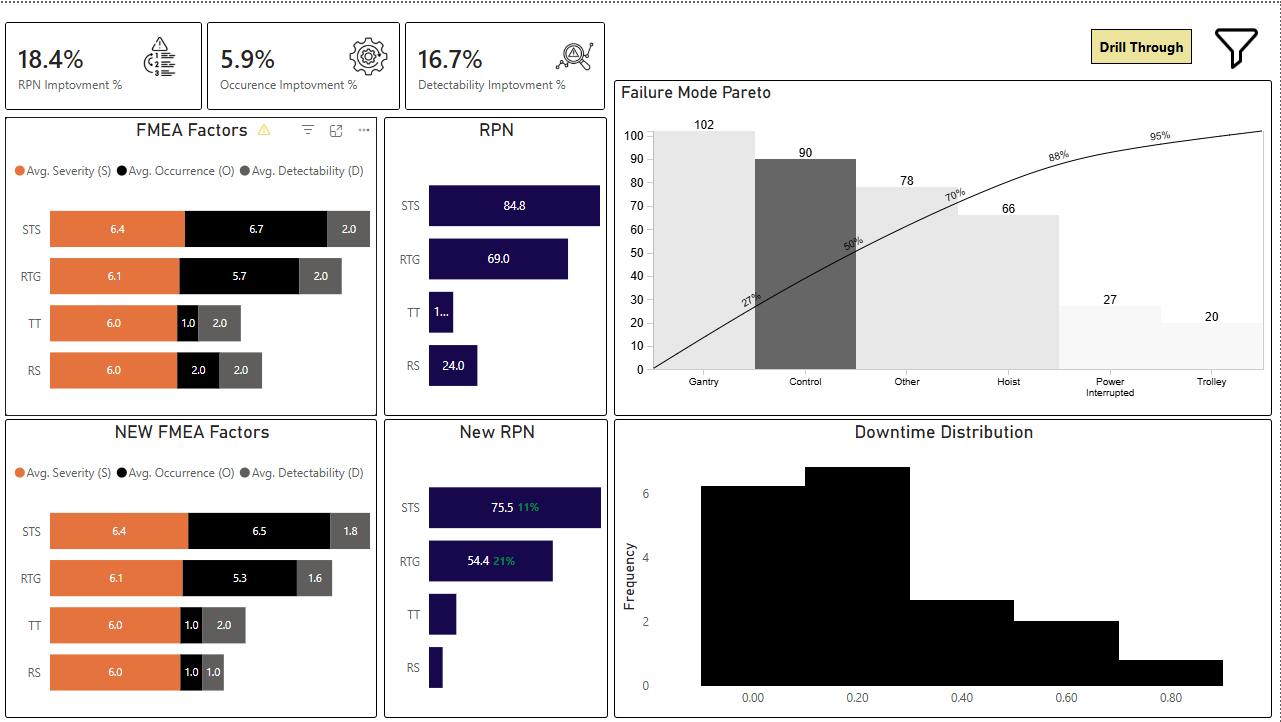

The page's visual inventory and layout, read from the dashboard file:
{"tool":"powerbi","page":{"name":"RPN & Pareto Analysis","canvas":[1280,720],"ordinal":1},"visuals":[{"type":"actionButton","box":[1090.9,26.3,101.6,34.5],"z":0},{"type":"cardVisual","fields":{"Data":["_Measures.Reduction Rate"]},"box":[5.4,19,196.8,88],"z":1000},{"type":"cardVisual","fields":{"Data":["_Measures.O Imptovment %"]},"box":[207.2,19,193.1,88],"z":2000},{"type":"cardVisual","fields":{"Data":["_Measures.Detectability Imptovment %"]},"box":[405.3,19,199.5,88],"z":3000},{"type":"image","box":[136,33.6,46.2,39.9],"z":4000},{"type":"image","box":[345.5,33.6,46.2,39.9],"z":5000},{"type":"image","box":[551.3,33.6,46.2,39.9],"z":6000},{"type":"paretoEDD8E69761BA4B7BB3AA6D813990D7BF","fields":{"values":["Count(FMEA Output.WO#)"],"categories":["FMEA Output.Category","FMEA Output.Keyword"]},"box":[613.9,77.1,658.3,335.5],"z":7000},{"type":"barChart","title":"FMEA Factors","fields":{"Category":["FMEA Output.Equipment Class"],"Y":["Avg(FMEA Output.Severity (S))","Avg(FMEA Output.Occurrence (O))","Avg(FMEA Output.Detectability (D))"]},"box":[5.4,114.3,371.8,298.3],"z":8000},{"type":"barChart","title":"RPN","fields":{"Category":["FMEA Output.Equipment Class"],"Y":["Avg(FMEA Output.RPN)"]},"box":[384,114.3,223.1,298.3],"z":9000},{"type":"barChart","title":"NEW FMEA Factors","fields":{"Category":["FMEA Output.Equipment Class"],"Y":["Avg(FMEA Output.New Severity (S))","Avg(FMEA Output.New Occurrence (O))","Avg(FMEA Output.New Detectability (D))"]},"box":[5.4,416.2,371.8,298.3],"z":10000},{"type":"barChart","title":"New RPN","fields":{"Category":["FMEA Output.Equipment Class"],"Y":["Avg(FMEA Output.New RPN)"]},"box":[384.5,416.2,223.1,298.3],"z":11000},{"type":"image","title":"ON","box":[1207,19,58,50.8],"z":12000},{"type":"clusteredColumnChart","title":"Downtime Distribution ","fields":{"Category":["FMEA Output.Downtime (hr.) (bins)"],"Y":["Sum(FMEA Output.Downtime (hr.))"]},"box":[613.9,416.2,658.3,298.3],"z":13000}]}

Visuals, with their boxes in screenshot pixels (x1, y1, x2, y2), scaled from the page's 1280x720 canvas onto the 1281x722 screenshot:
actionButton: 1092 26 1193 61
cardVisual - _Measures.Reduction Rate: 5 19 202 107
cardVisual - _Measures.O Imptovment %: 207 19 401 107
cardVisual - _Measures.Detectability Imptovment %: 406 19 605 107
image: 136 34 182 74
image: 346 34 392 74
image: 552 34 598 74
paretoEDD8E69761BA4B7BB3AA6D813990D7BF - Count(FMEA Output.WO#) x FMEA Output.Category: 614 77 1273 414
"FMEA Factors" barChart: 5 115 377 414
"RPN" barChart: 384 115 608 414
"NEW FMEA Factors" barChart: 5 417 377 716
"New RPN" barChart: 385 417 608 716
"ON" image: 1208 19 1266 70
"Downtime Distribution " clusteredColumnChart: 614 417 1273 716
